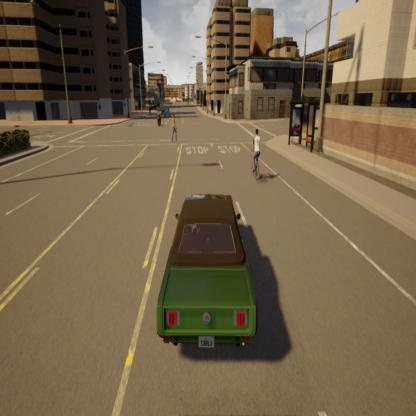Cars: (154, 183, 260, 363), (163, 104, 170, 119)
Pedestrian: (168, 107, 180, 145)
